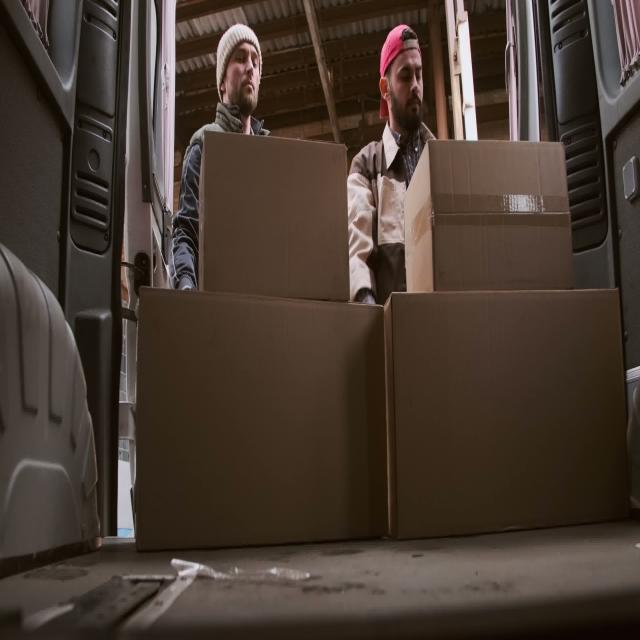counting-the-number-of-boxes: (136, 285, 389, 549), (384, 289, 629, 542), (404, 142, 575, 295), (199, 133, 351, 300)
